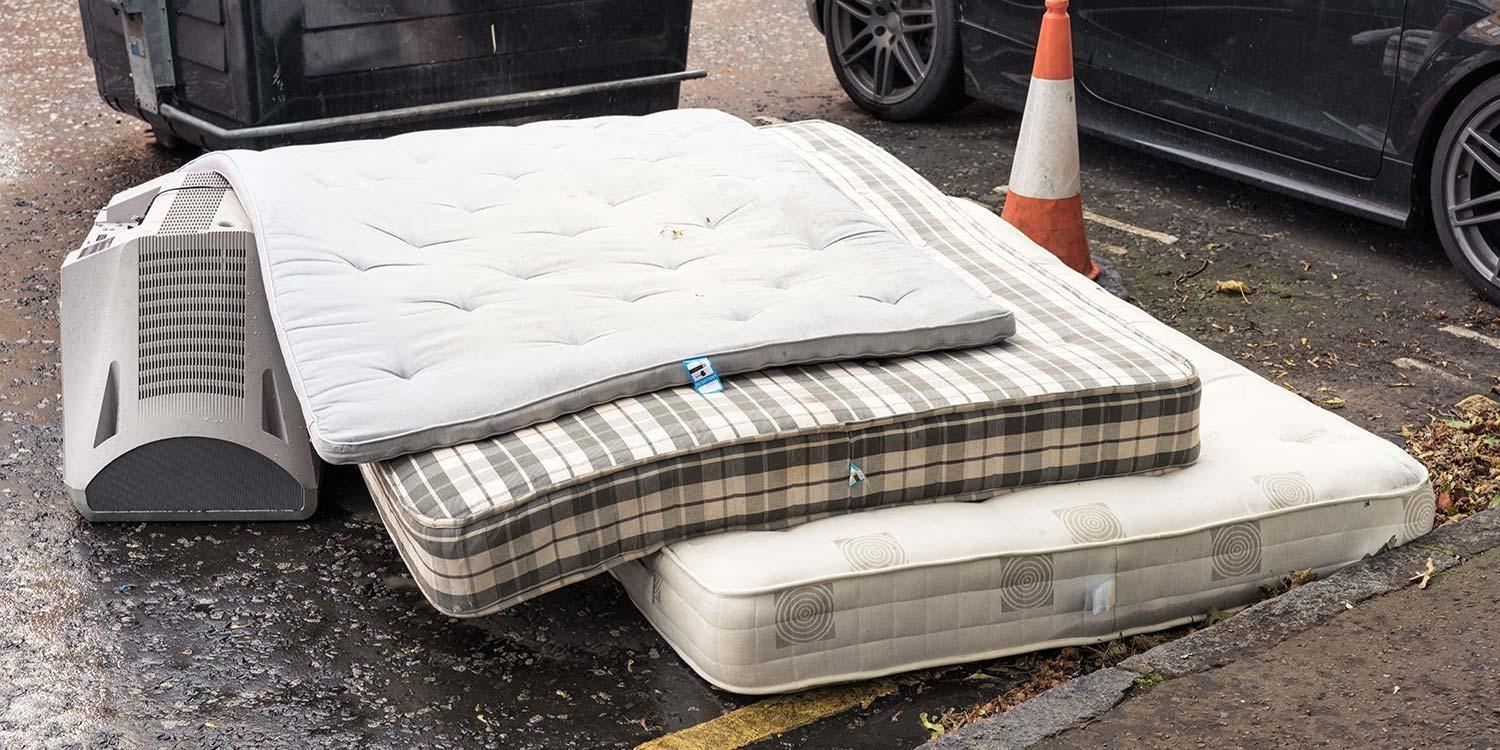Bed-Mattress: (322, 108, 1211, 629), (596, 193, 1442, 714), (167, 94, 1019, 484), (614, 305, 1437, 694)
